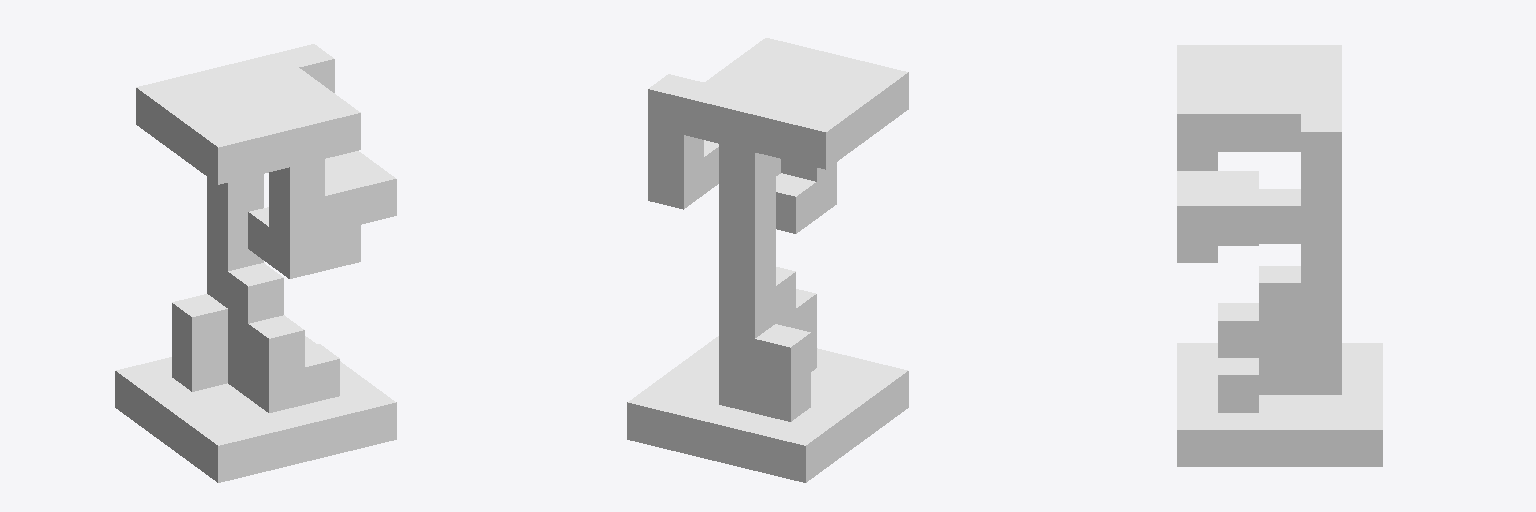
Rendered from tower.obj.
The picture shows the model from 3 angles: view 1: azimuth 30°, elevation 25°; view 2: azimuth 150°, elevation 25°; view 3: azimuth 270°, elevation 25°; orthographic projection.
Size of the model in its own units: 5 by 9 by 5.